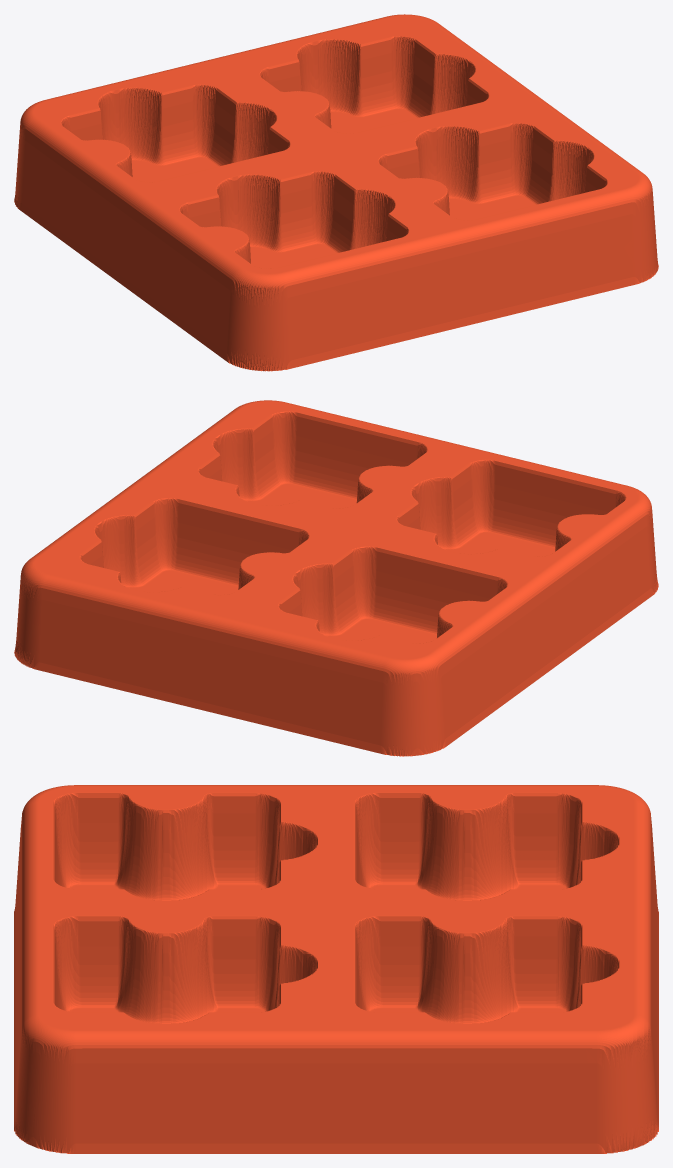
Rendered from mold.glb.
3 renders of one model, top to bottom at view 1: azimuth 30°, elevation 25°; view 2: azimuth 150°, elevation 25°; view 3: azimuth 270°, elevation 25°, orthographic. The views are drawn at different scales.
Visible parts, largest first — view 1: geometry_0; view 2: geometry_0; view 3: geometry_0.
Part boxes in pixels (x1,y1,x2,y2): geometry_0: [14, 14, 658, 371]; geometry_0: [14, 400, 658, 756]; geometry_0: [14, 785, 658, 1153].
Bounding box in the file's own units: 0.0914 × 0.0182 × 0.0942.
